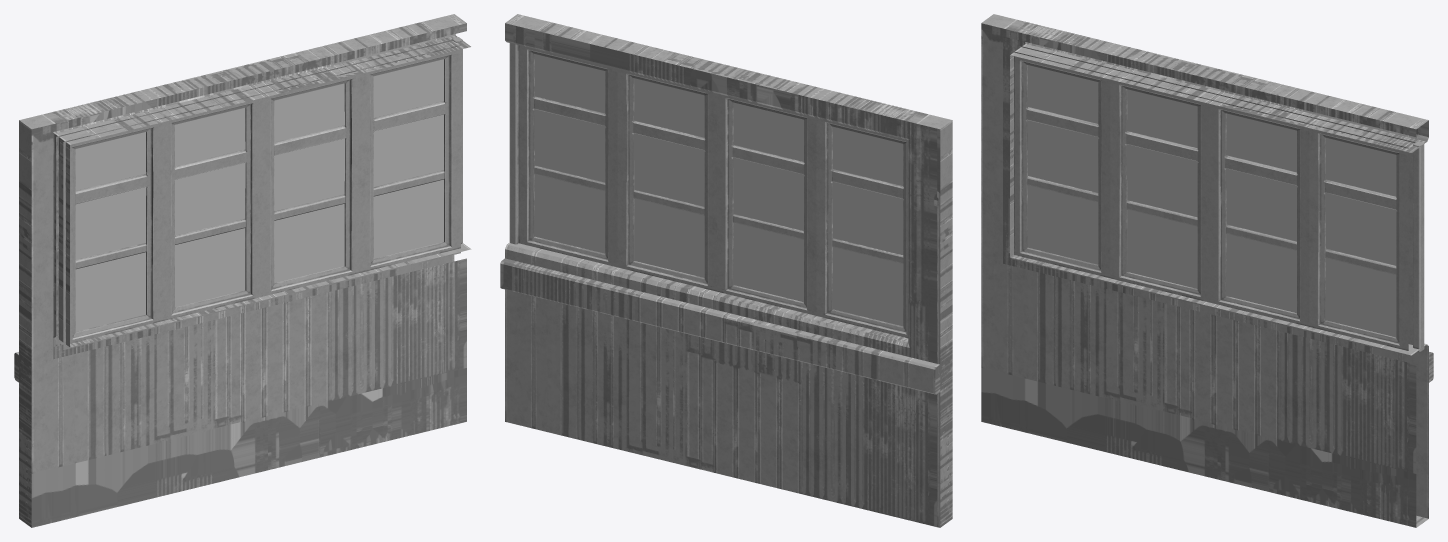
Rendered from SM_Building03_Wall02_LR.fbx.
3 renders of one model, left to right at view 1: azimuth 30°, elevation 25°; view 2: azimuth 150°, elevation 25°; view 3: azimuth 330°, elevation 25°, orthographic.
Visible parts, largest first — view 1: SM_Building03_Wall02_LR_LOD0; view 2: SM_Building03_Wall02_LR_LOD0; view 3: SM_Building03_Wall02_LR_LOD0.
Boxes of the visible parts, <box> form: SM_Building03_Wall02_LR_LOD0: <box>14,14,471,527</box>; SM_Building03_Wall02_LR_LOD0: <box>500,14,952,527</box>; SM_Building03_Wall02_LR_LOD0: <box>981,14,1433,527</box>.
Size of the model in its own units: 400 by 35.01 by 350.
